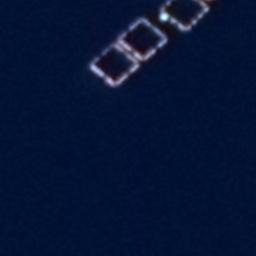square_solid: (114, 16, 168, 64), (88, 42, 140, 90), (158, 1, 210, 32)
